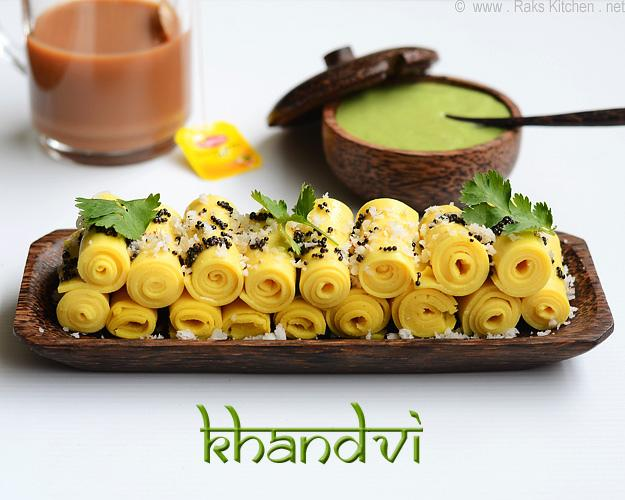khandvi: (70, 207, 589, 362)
